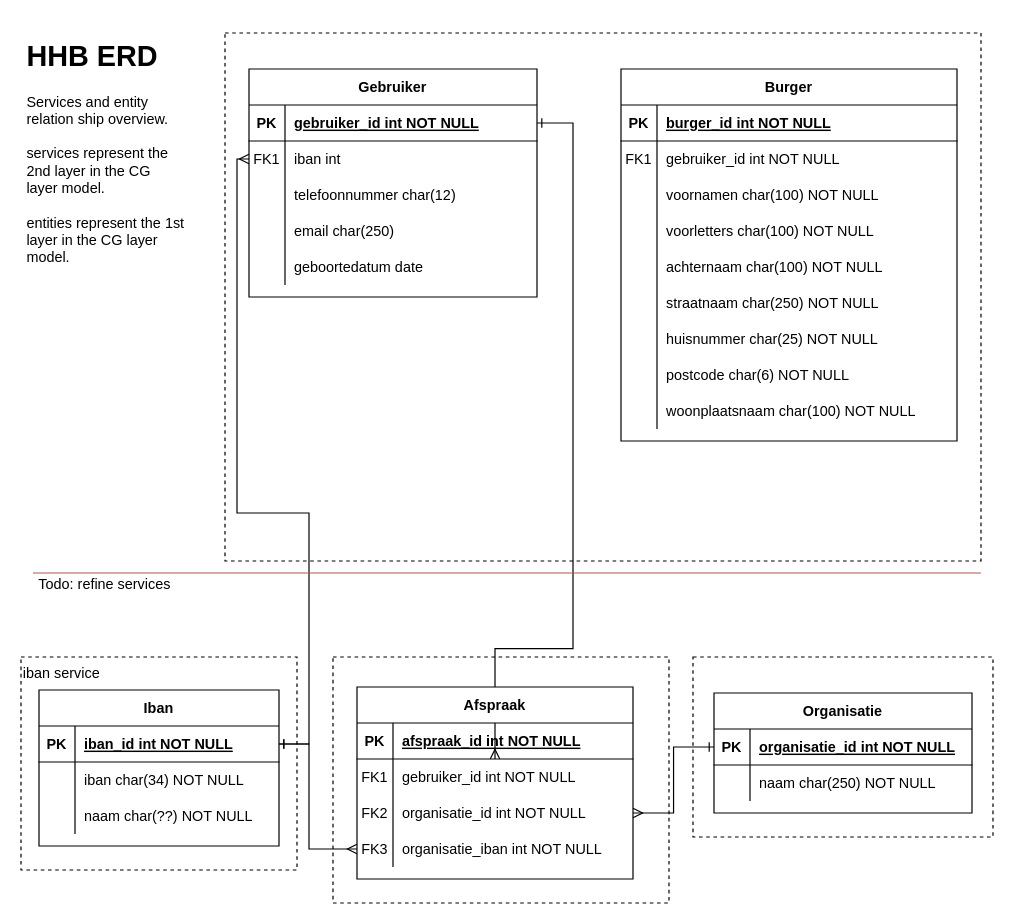
The diagram is 1014 pixels wide and 924 high, and some of its shapes have lost their labels. Each missing label, with the box of its shape:
afspraak service: (332, 656, 669, 903)
gebruikers service (burger entity will later be replaced by the BRP service): (224, 32, 981, 561)
organisatie service: (692, 656, 993, 837)
